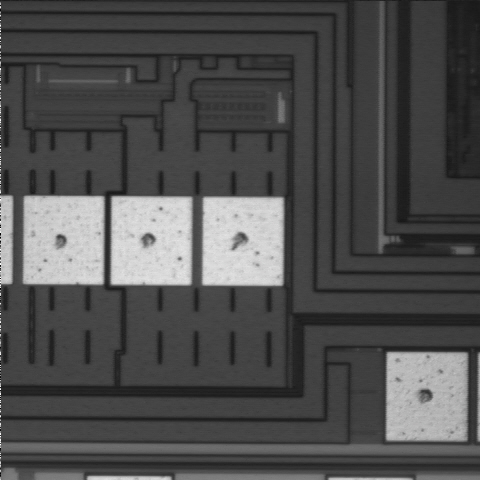pad: (111, 197, 192, 285), (24, 196, 104, 284), (203, 197, 283, 285), (387, 353, 465, 440)
